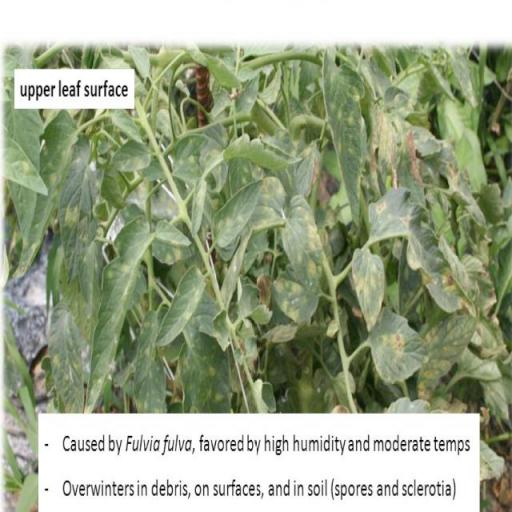Leaf Mold: (82, 218, 148, 410), (368, 192, 472, 313), (316, 54, 363, 232), (415, 314, 479, 394), (58, 154, 94, 290), (370, 306, 430, 386), (154, 264, 206, 352), (281, 192, 323, 288), (212, 178, 264, 248), (352, 245, 385, 332), (172, 131, 212, 183), (110, 142, 156, 172), (150, 218, 194, 248)
